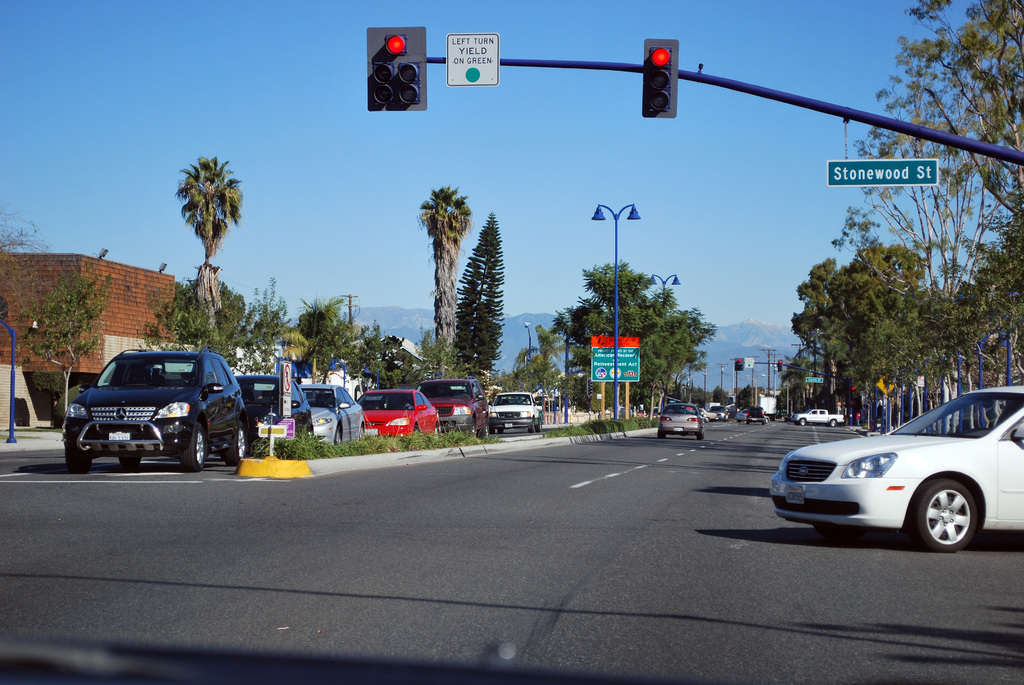red_light: (373, 31, 422, 108), (647, 43, 675, 117)
